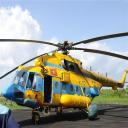helicopter: (4, 24, 123, 112)
